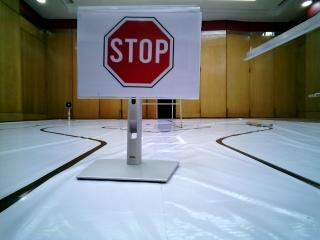stop: (83, 12, 196, 98)
